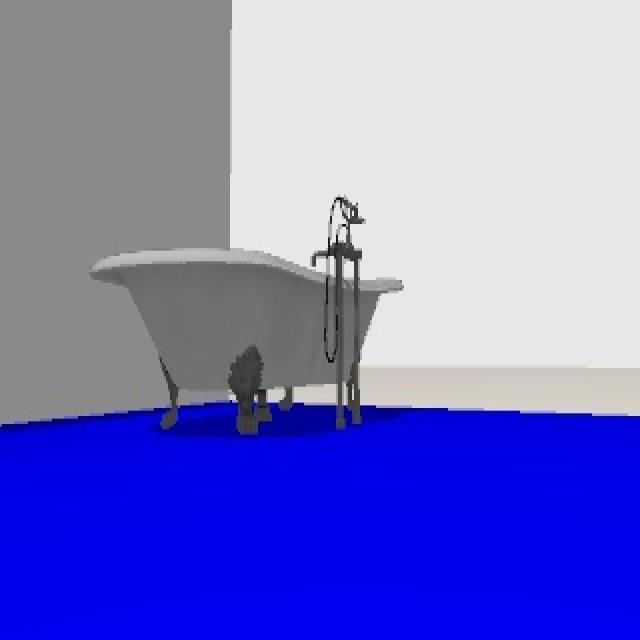bathtub: (89, 194, 406, 438)
